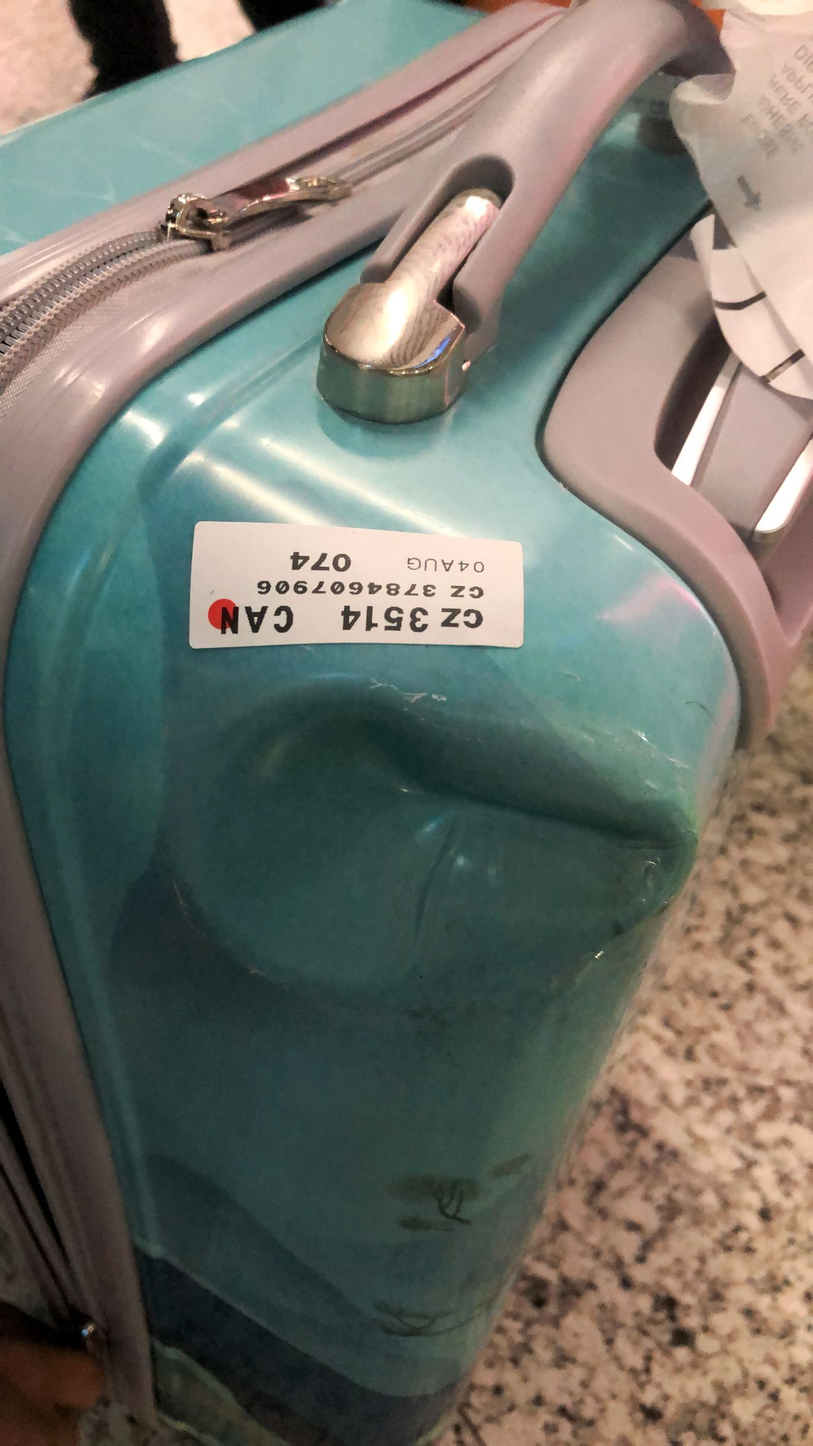rupture: (164, 674, 693, 1009)
